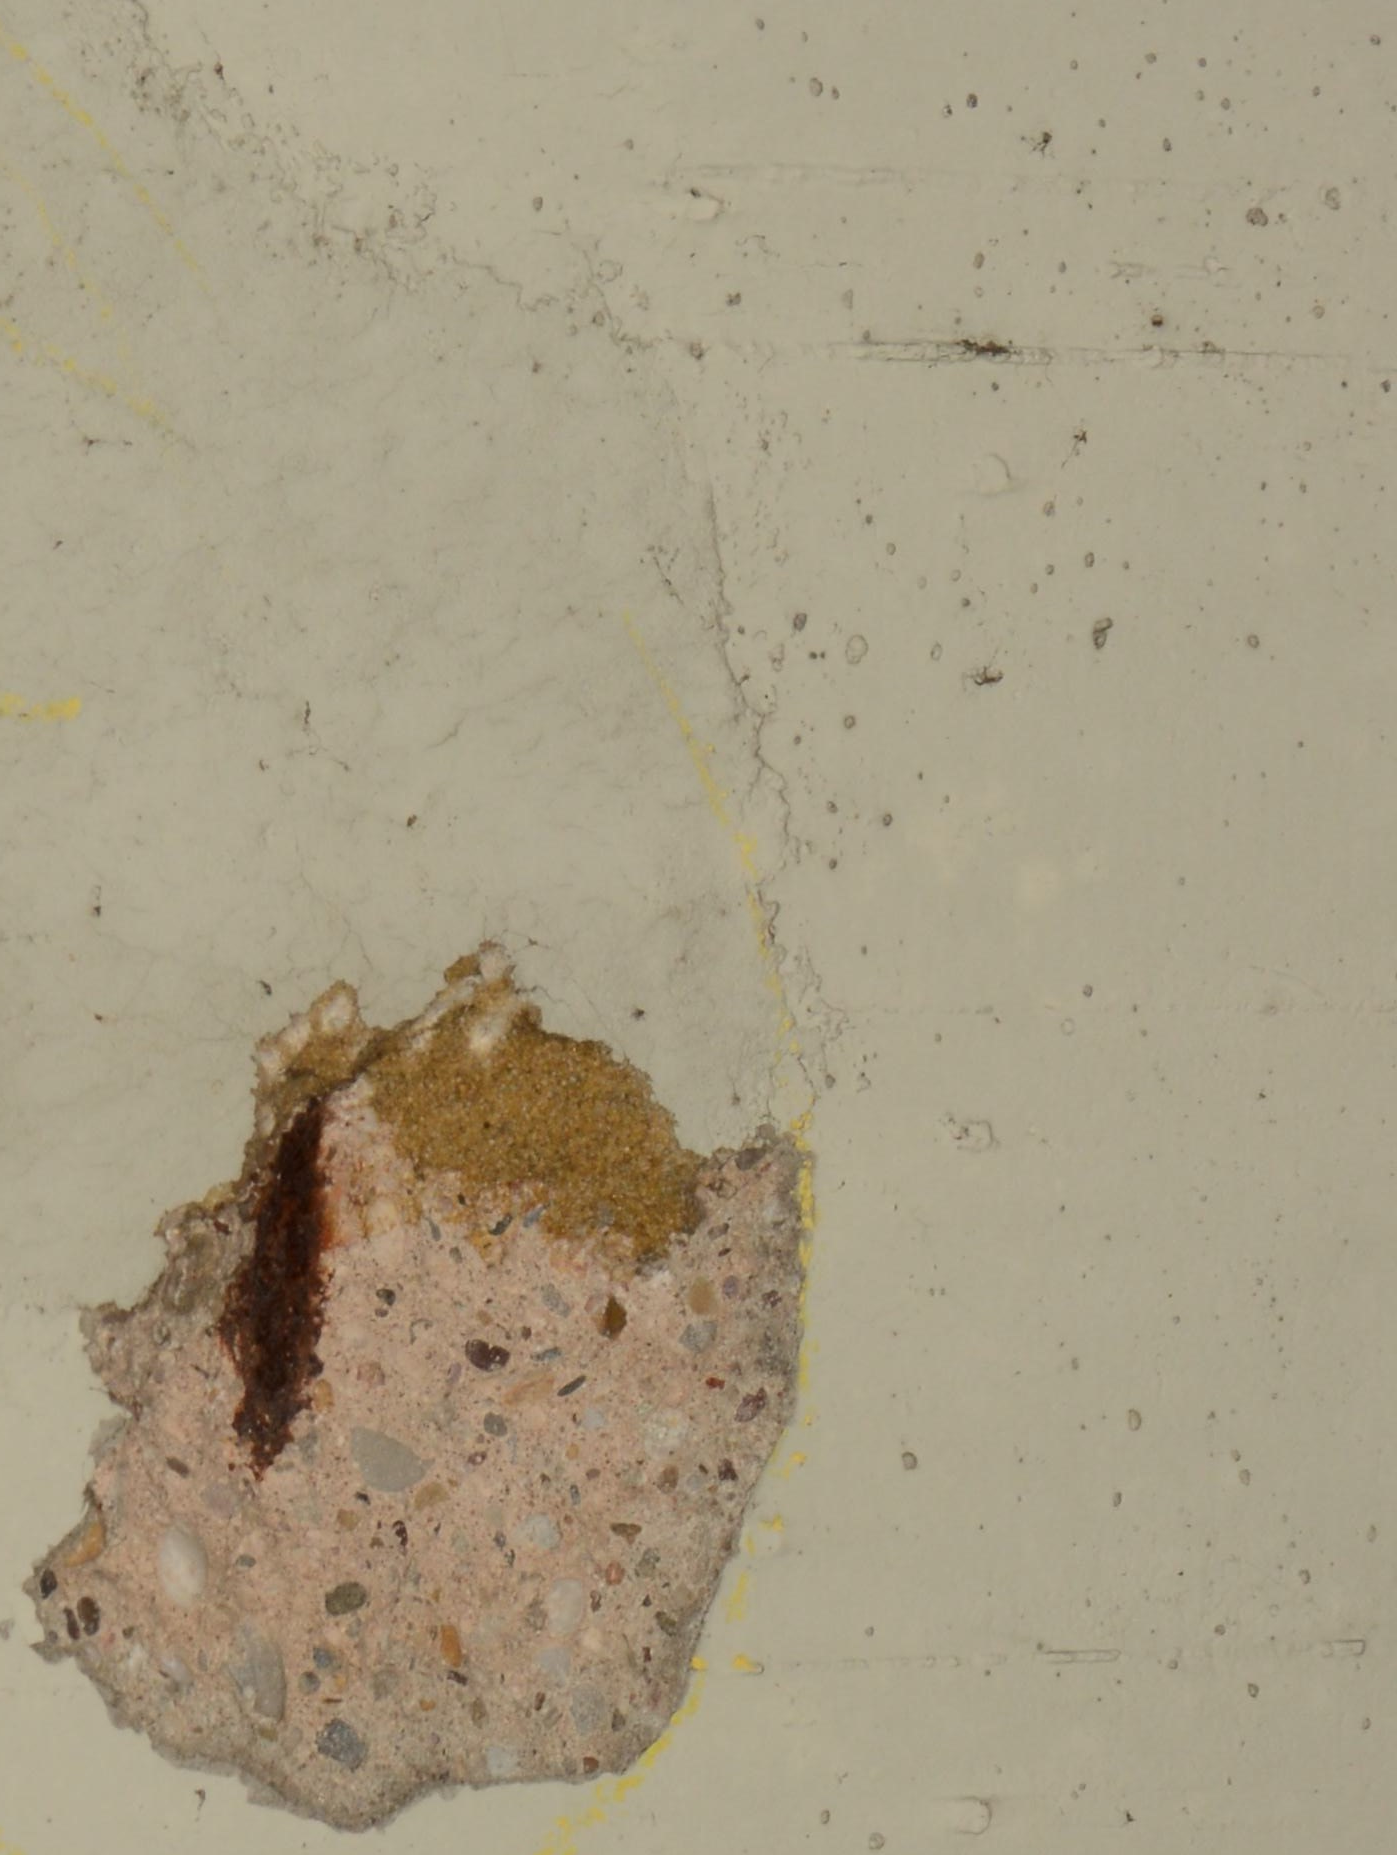Exposed reinforcement: (220, 1098, 330, 1484)
Spalling: (18, 939, 811, 1834)
